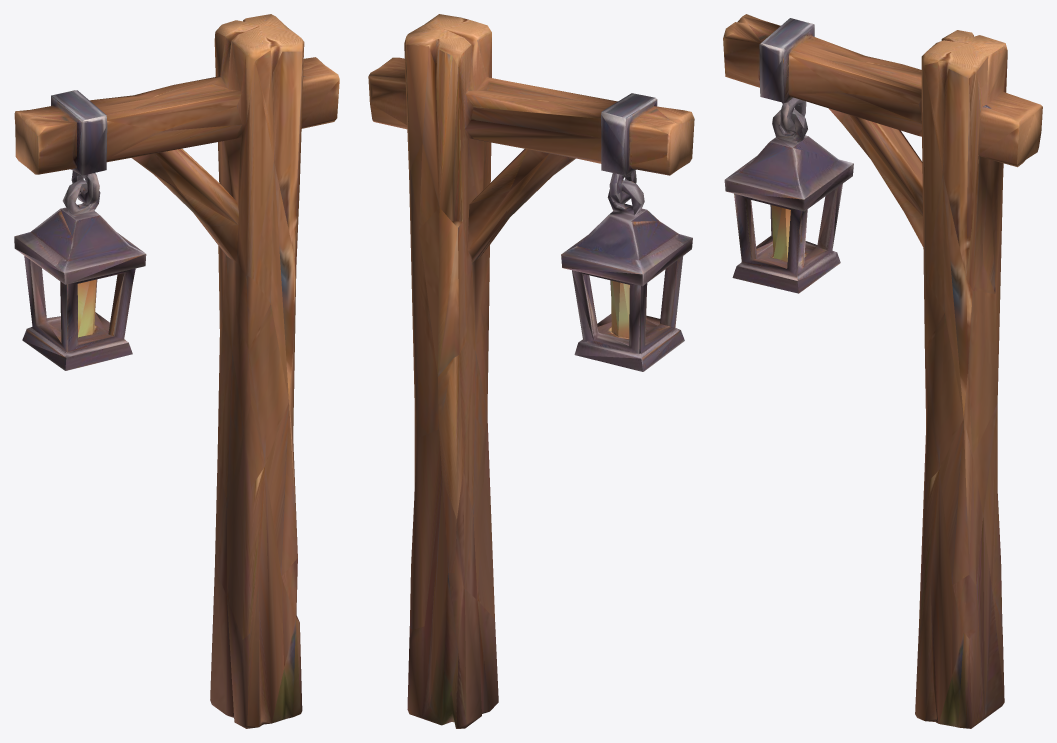
The model's file is lantern.glb.
3 views of the same model, side by side, from view 1: azimuth 30°, elevation 25°; view 2: azimuth 150°, elevation 25°; view 3: azimuth 330°, elevation 25° (orthographic).
Parts seen in each view (by area): view 1: lantern; view 2: lantern; view 3: lantern.
Boxes of the visible parts, bbox=[...] form: lantern: bbox=[14, 14, 339, 728]; lantern: bbox=[368, 14, 694, 728]; lantern: bbox=[723, 14, 1042, 728].
Bounding box in the file's own units: 1.35 × 2.9 × 0.39.
Materials: 1 (1 with a texture image).
